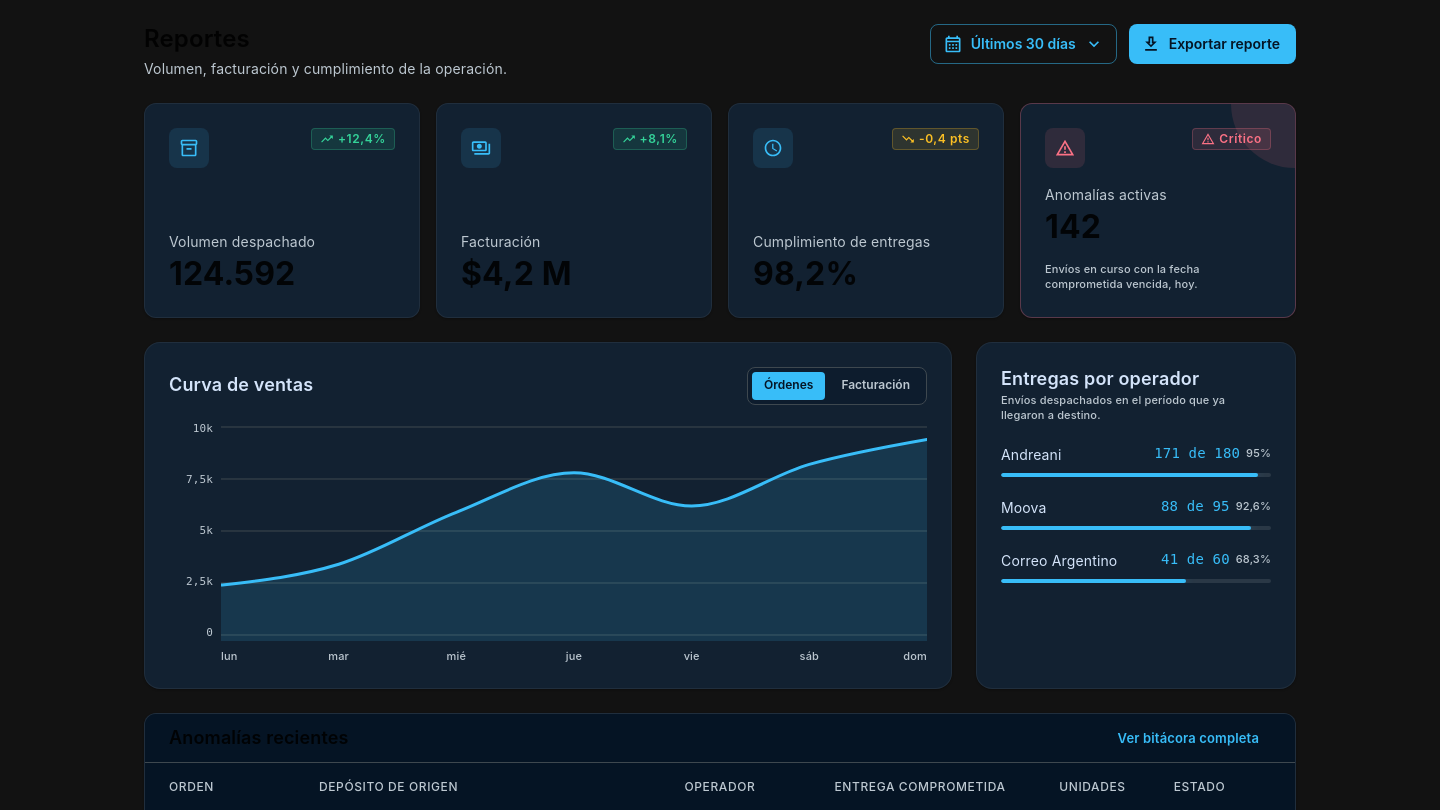
it: ReportsPage › asks for the last 30 days by default and refetches when the period changes
The width and height of the screenshot is (1440, 810).
Click the button with aria-label "período del reporte" at (1023, 44), box x1=930 y1=24 x2=1117 y2=64
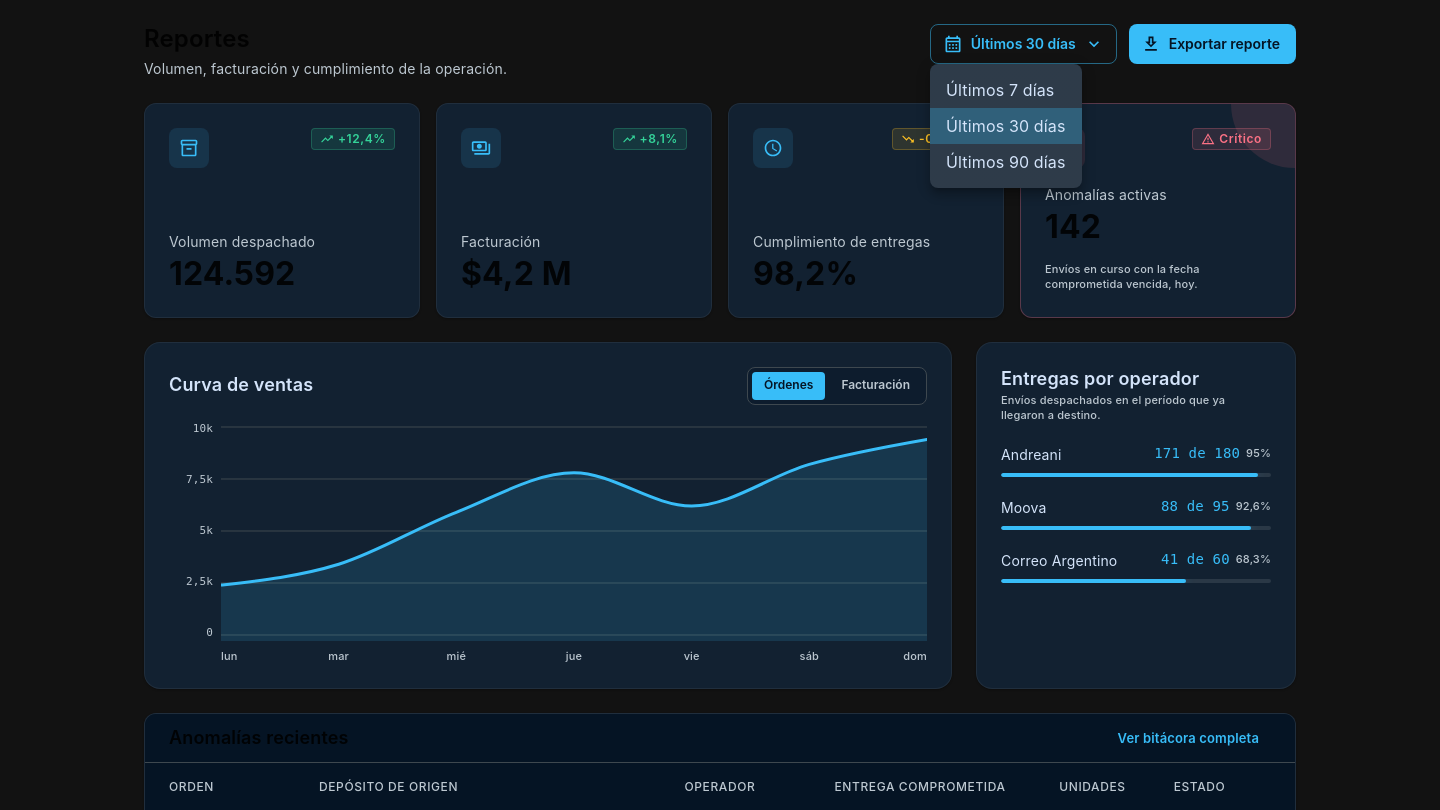
Click the menu item "Últimos 7 días" at (1000, 90), box x1=946 y1=80 x2=1054 y2=100
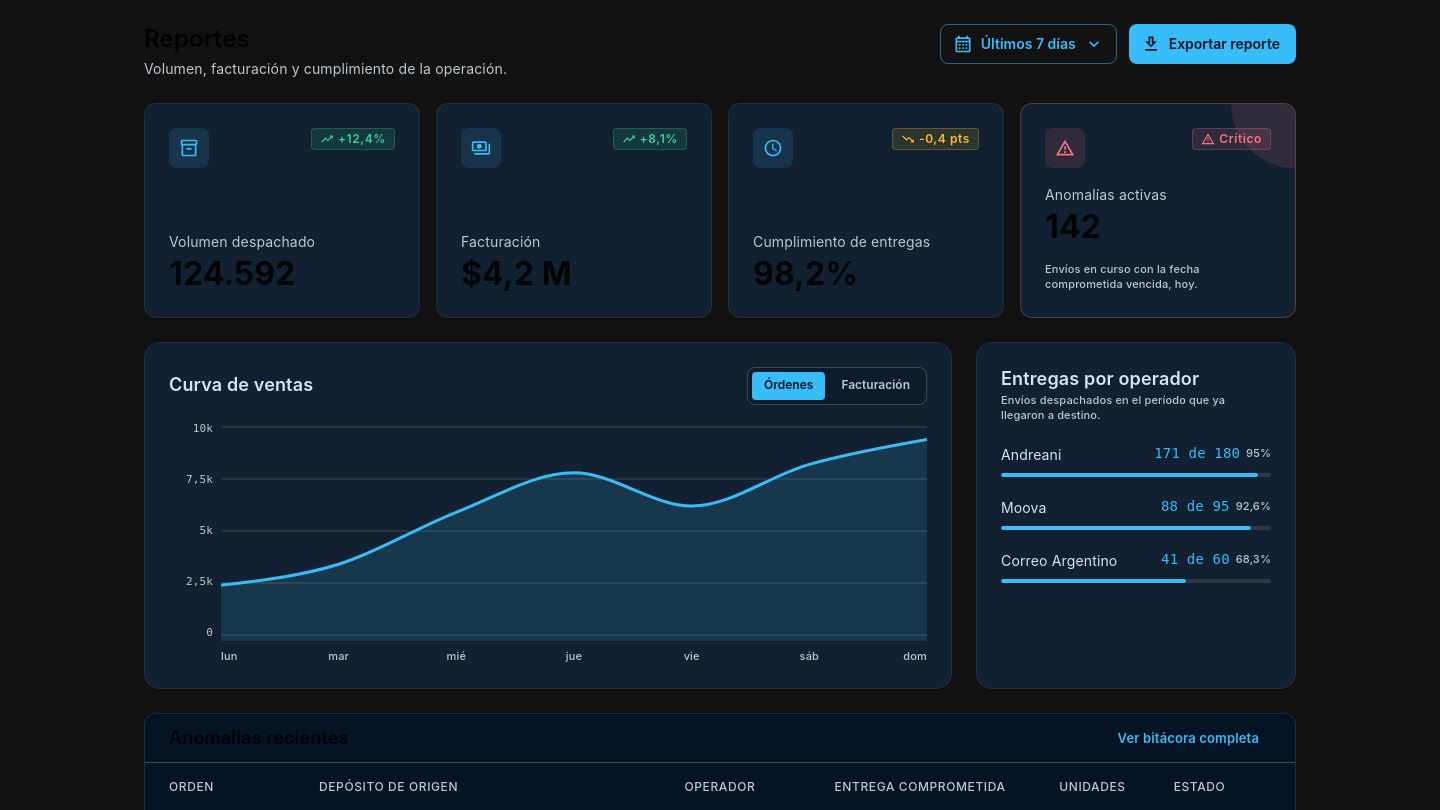
Now the button "Últimos 7 días" is shown, box x1=940 y1=24 x2=1117 y2=64
